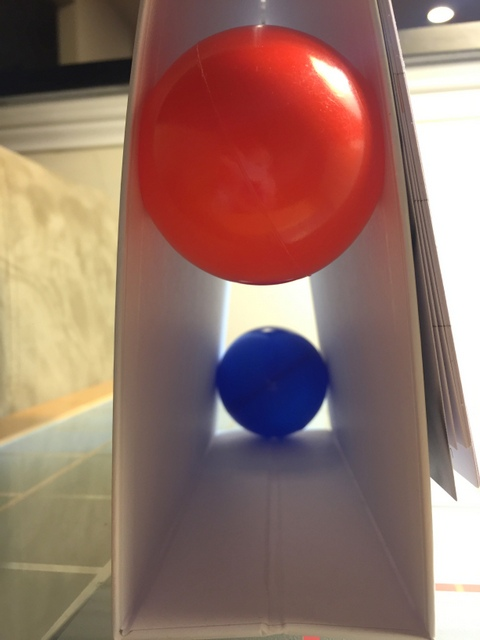Ball: (217, 326, 329, 438)
